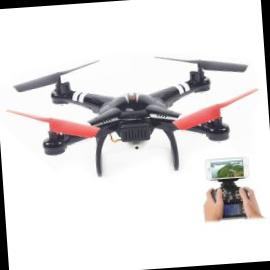drone: (6, 48, 270, 165)
